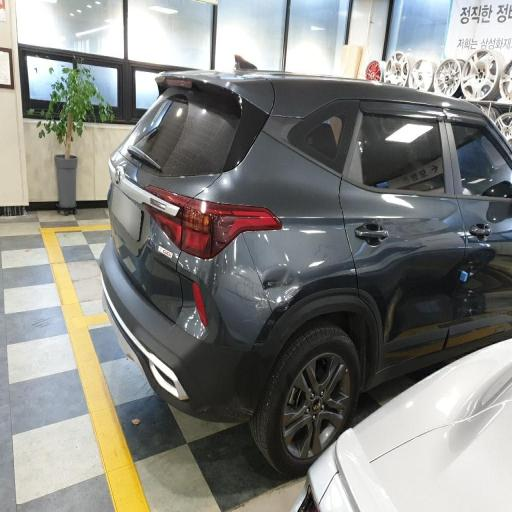dent: (138, 151, 321, 345)
